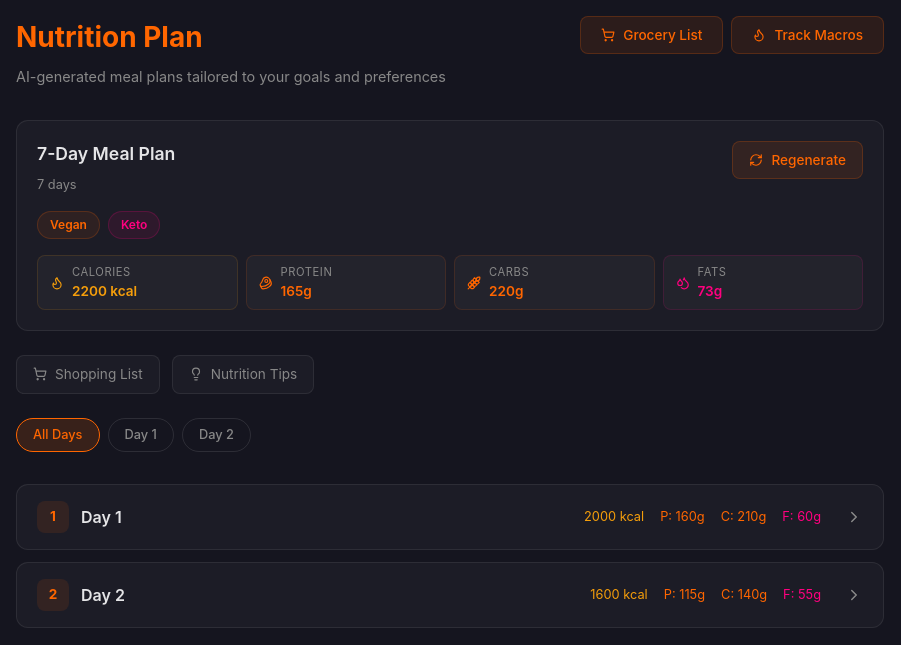
Test case: NutritionPage › filters days when a day selector pill is clicked
The width and height of the screenshot is (901, 645).
Check: the button with test id "day-header-day_1" is shown, box [17, 484, 883, 548]
Check: the button with test id "day-header-day_2" is shown, box [17, 562, 883, 626]
Click Day 1 filter pill (the first "Day 1" text is the pill button)
Click the button "Day 1". click: x=141, y=435
box: [108, 418, 174, 452]
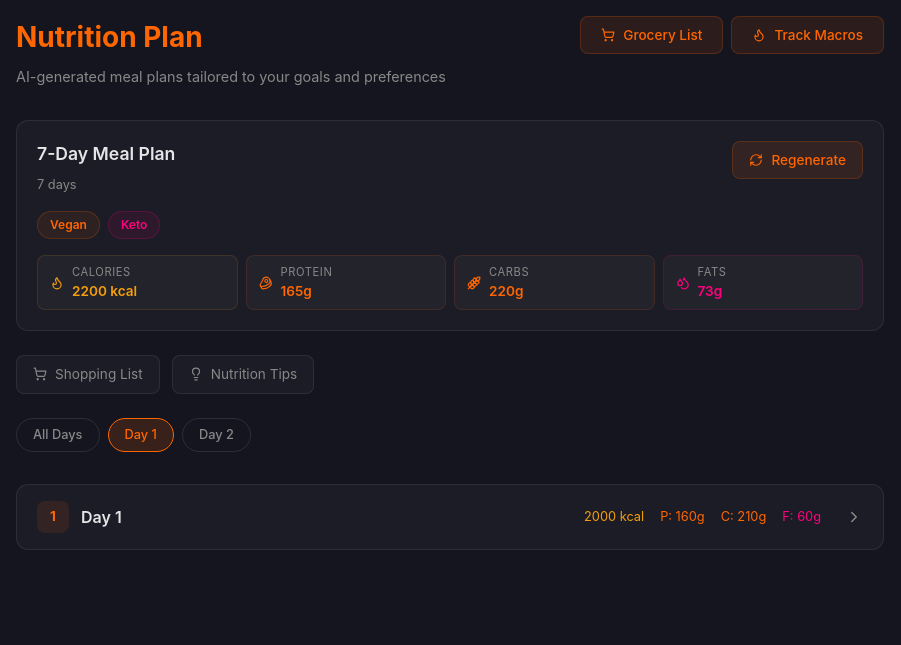
Check: the button with test id "day-header-day_2" is gone
